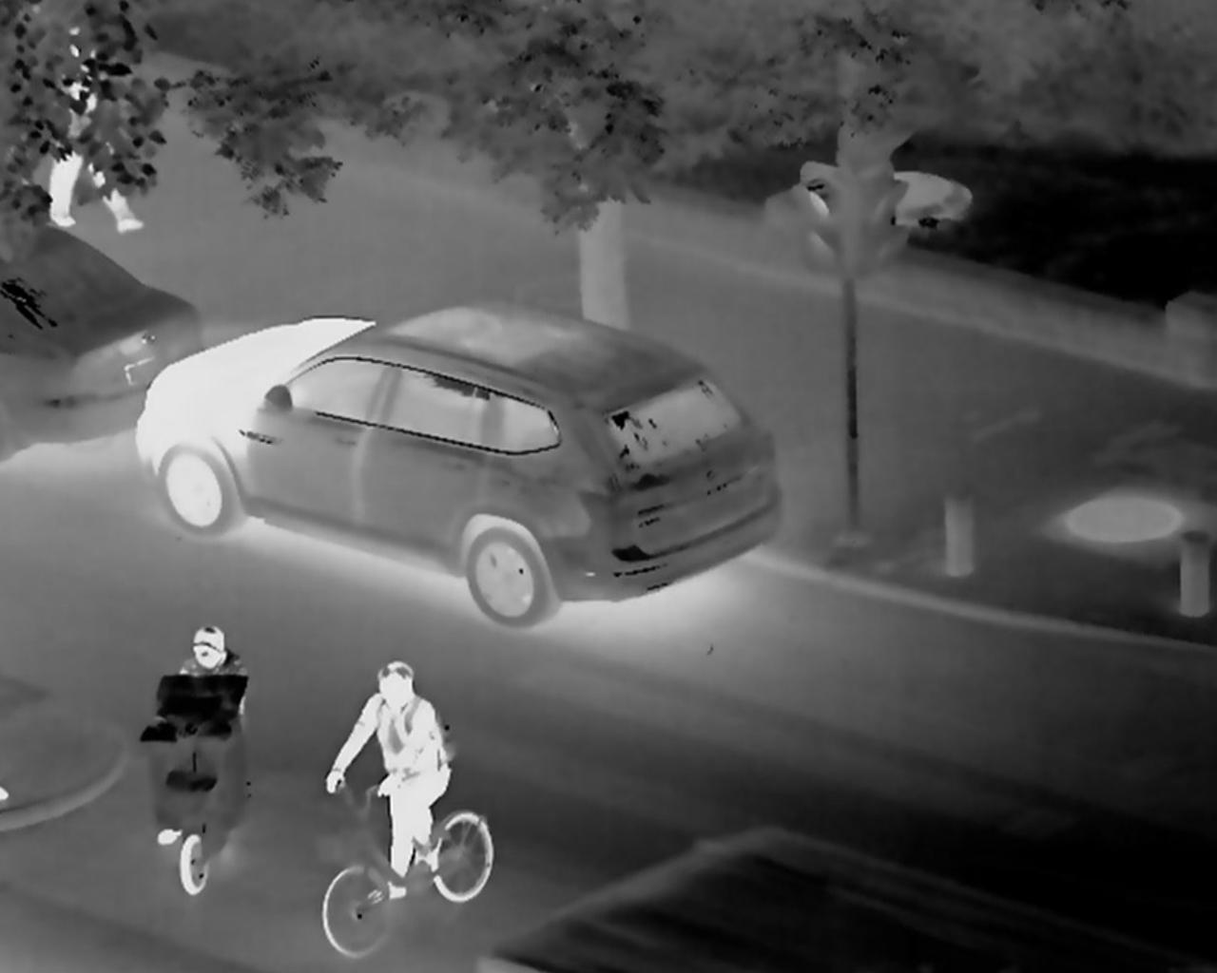person: (360, 658, 446, 887), (157, 603, 235, 710)
